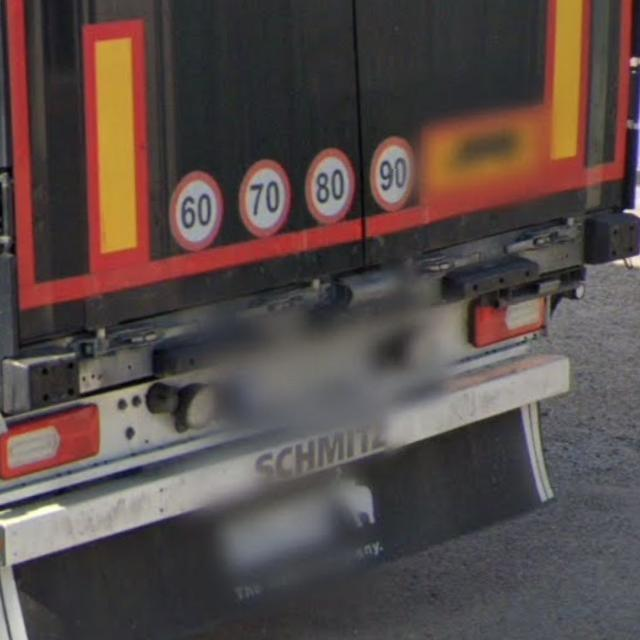forb_speed_over_60: (169, 172, 227, 253)
forb_speed_over_70: (238, 160, 293, 239)
forb_speed_over_80: (305, 148, 357, 225)
